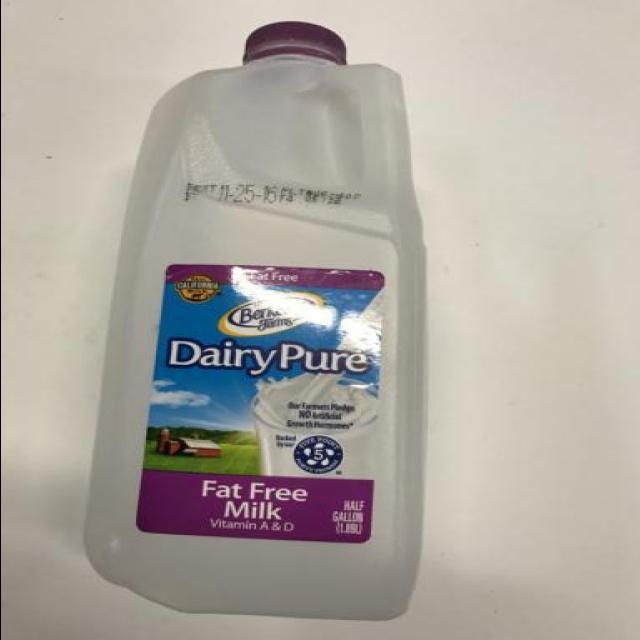HDPEM: (80, 24, 428, 620)
